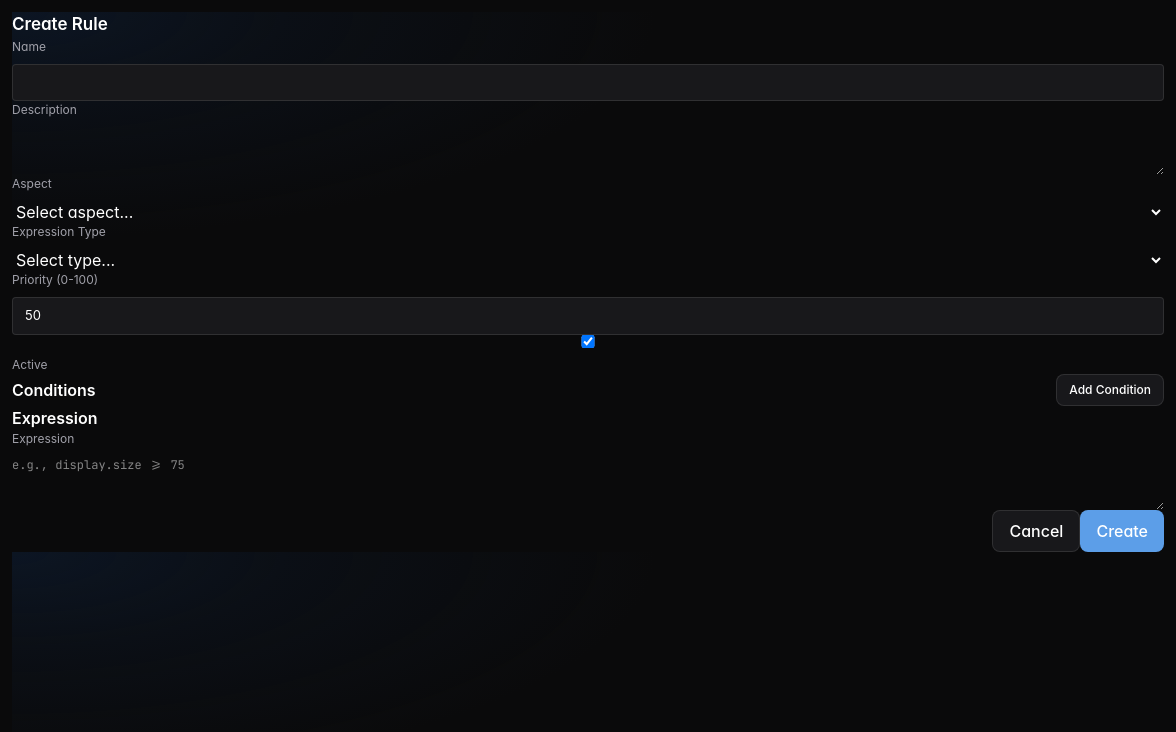
Scenario: RuleEditor › Validation › shows error for empty expression
Type "Test Rule" into the field labelled "Name". click: (588, 82)
box: x1=12 y1=64 x2=1164 y2=101
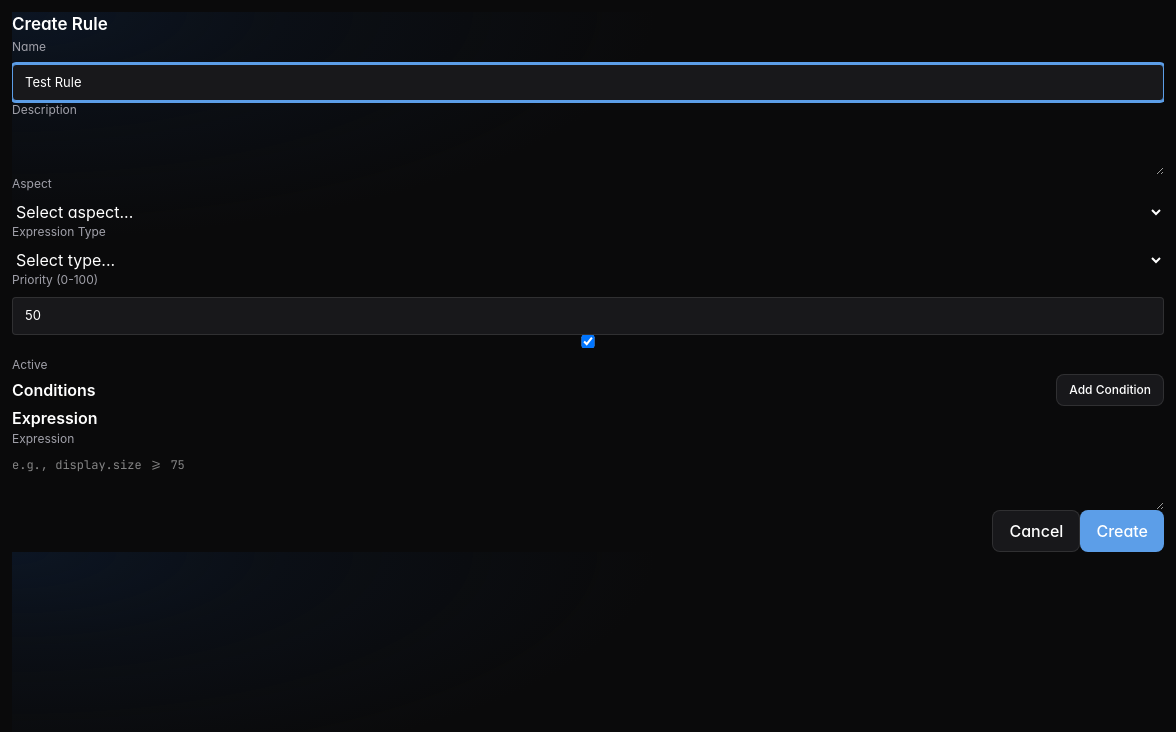
Click the button "Create". click: (1122, 530)
box: x1=1080 y1=510 x2=1164 y2=552
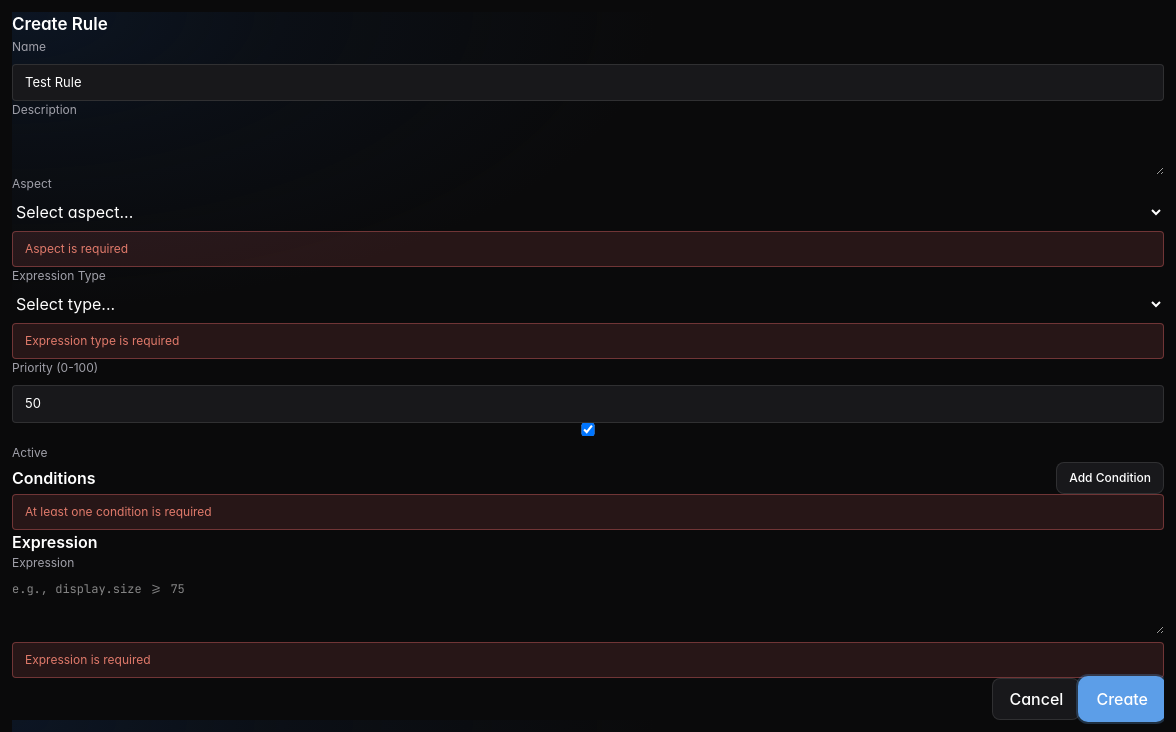
Expected: the text "Expression is required" is shown, x1=12 y1=642 x2=1164 y2=678
